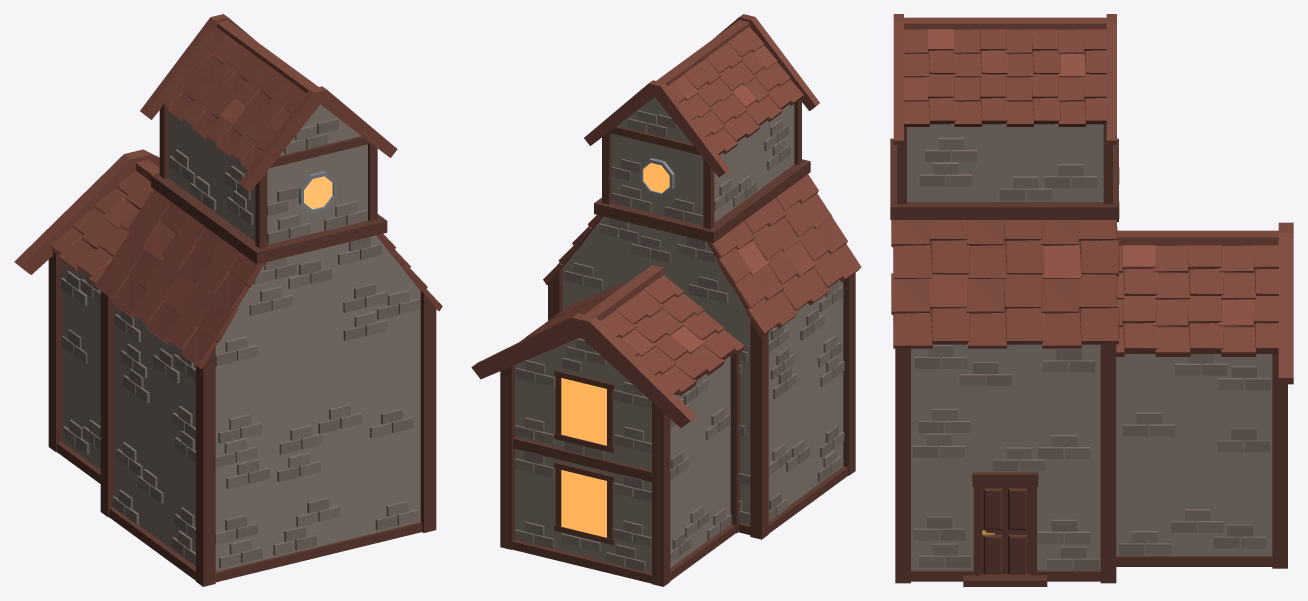
The model's file is SM_House_11.fbx.
3 renders of one model, left to right at view 1: azimuth 30°, elevation 25°; view 2: azimuth 150°, elevation 25°; view 3: azimuth 270°, elevation 25°, orthographic. The views are drawn at different scales.
Visible parts, largest first — view 1: SM_House_11_LOD0; view 2: SM_House_11_LOD0; view 3: SM_House_11_LOD0.
Part boxes in pixels (x1=…): SM_House_11_LOD0: x1=14, y1=14, x2=442, y2=586; SM_House_11_LOD0: x1=471, y1=14, x2=861, y2=586; SM_House_11_LOD0: x1=890, y1=14, x2=1293, y2=586.
Bounding box in the file's own units: 625 × 822 × 1134.
Materials: 1 (1 with a texture image).
